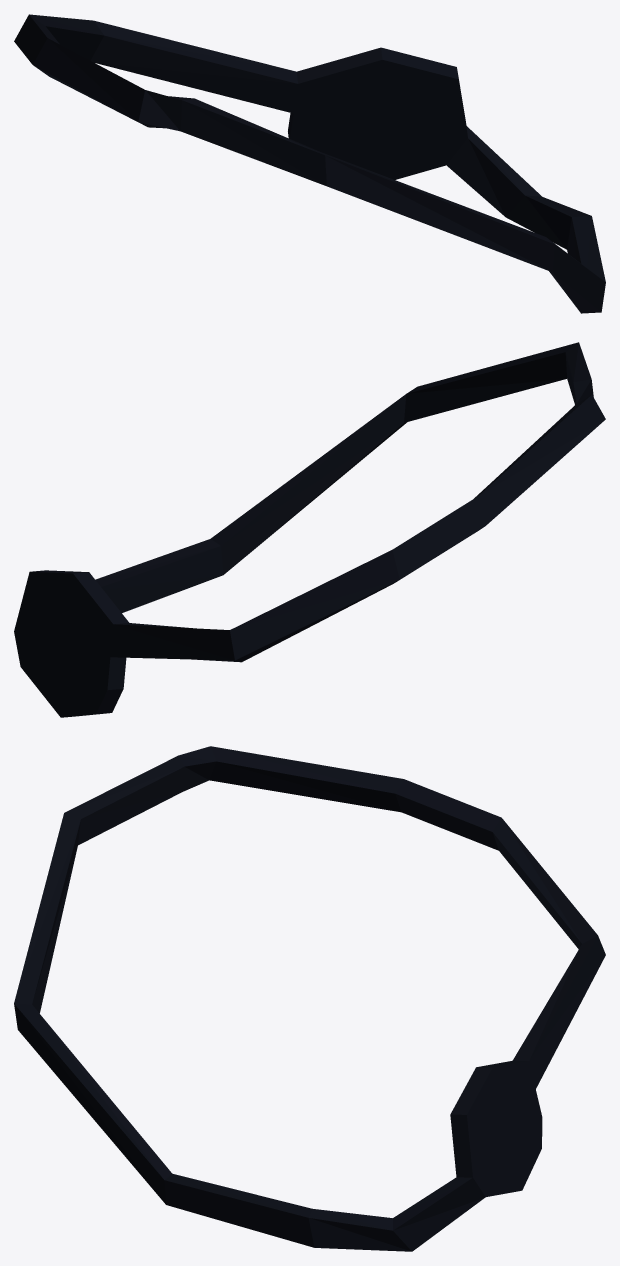
The model's file is RIGHT EYEPATCH.fbx.
The picture shows the model from 3 angles, top to bottom: view 1: azimuth 30°, elevation 25°; view 2: azimuth 150°, elevation 25°; view 3: azimuth 270°, elevation 25°; orthographic projection. The views are drawn at different scales.
Visible parts, largest first — view 1: RIGHT_EYEPATCH; view 2: RIGHT_EYEPATCH; view 3: RIGHT_EYEPATCH.
Boxes of the visible parts, left/top/right/bottom form: RIGHT_EYEPATCH: left=14, top=14, right=605, bottom=313; RIGHT_EYEPATCH: left=14, top=342, right=605, bottom=717; RIGHT_EYEPATCH: left=14, top=746, right=605, bottom=1251.
Size of the model in its own units: 24.39 by 15.11 by 27.61.
